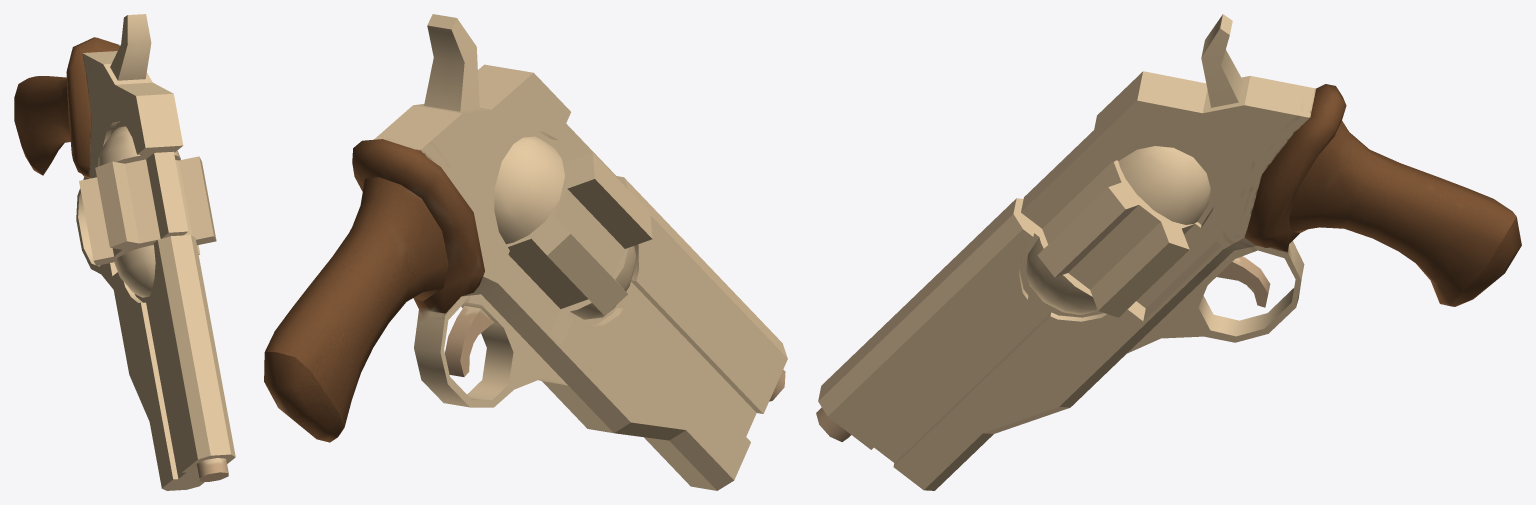
File: Revolver.fbx
3 views of the same model, side by side, from view 1: azimuth 30°, elevation 25°; view 2: azimuth 150°, elevation 25°; view 3: azimuth 270°, elevation 25° (orthographic). The views are drawn at different scales.
Parts seen in each view (by area): view 1: Revolver; view 2: Revolver; view 3: Revolver.
Boxes of the visible parts, box(x1,y1,x2,y2) form: Revolver: box(14, 14, 235, 490); Revolver: box(264, 14, 787, 490); Revolver: box(816, 14, 1521, 490).
Size of the model in its own units: 39.51 by 127 by 160.
